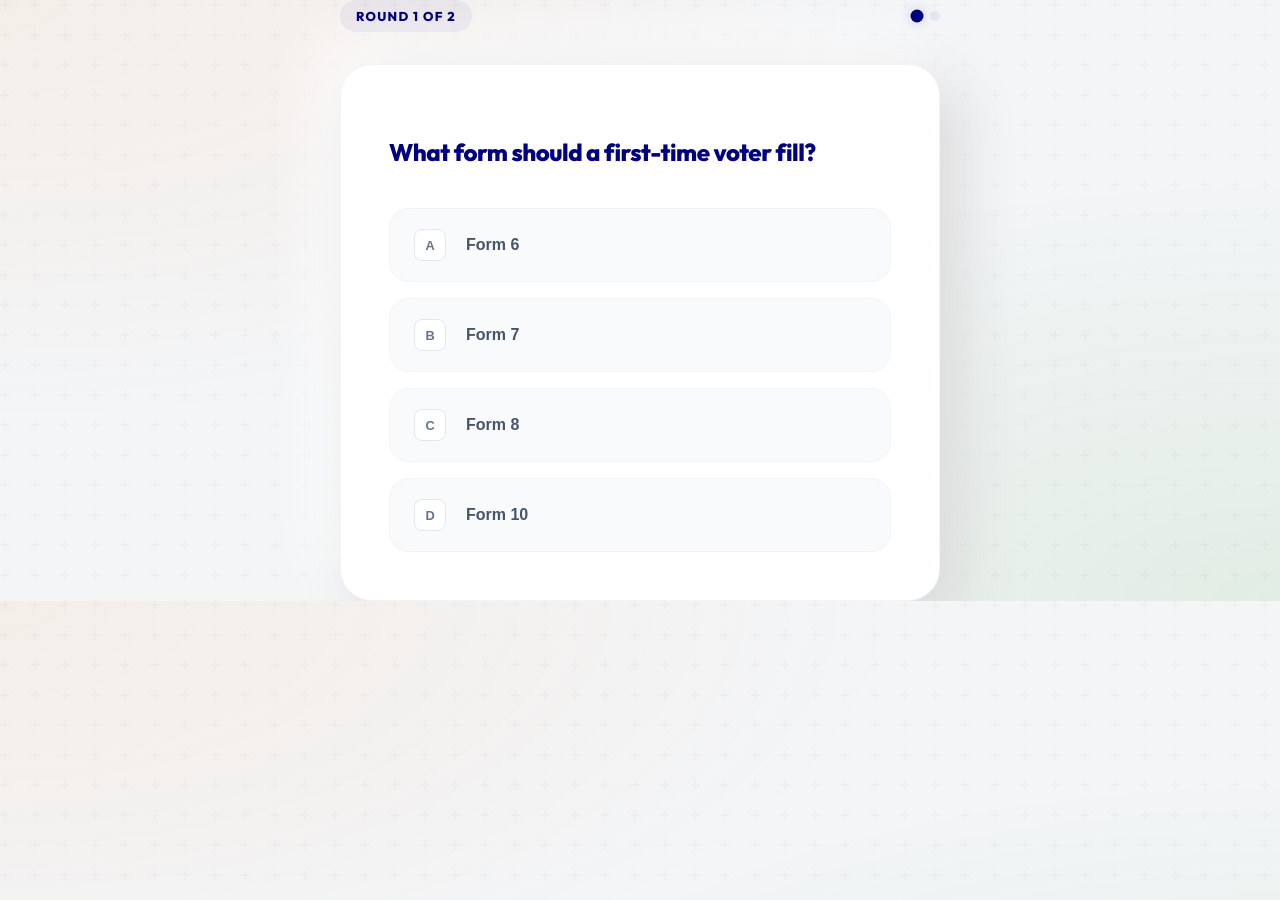
Test case: ElectionQuiz Component › should show "Not Quite!" when clicking wrong answer
This screenshot has width=1280, height=900.
Click the text "Form 7" at (493, 335), box [466, 326, 519, 344]
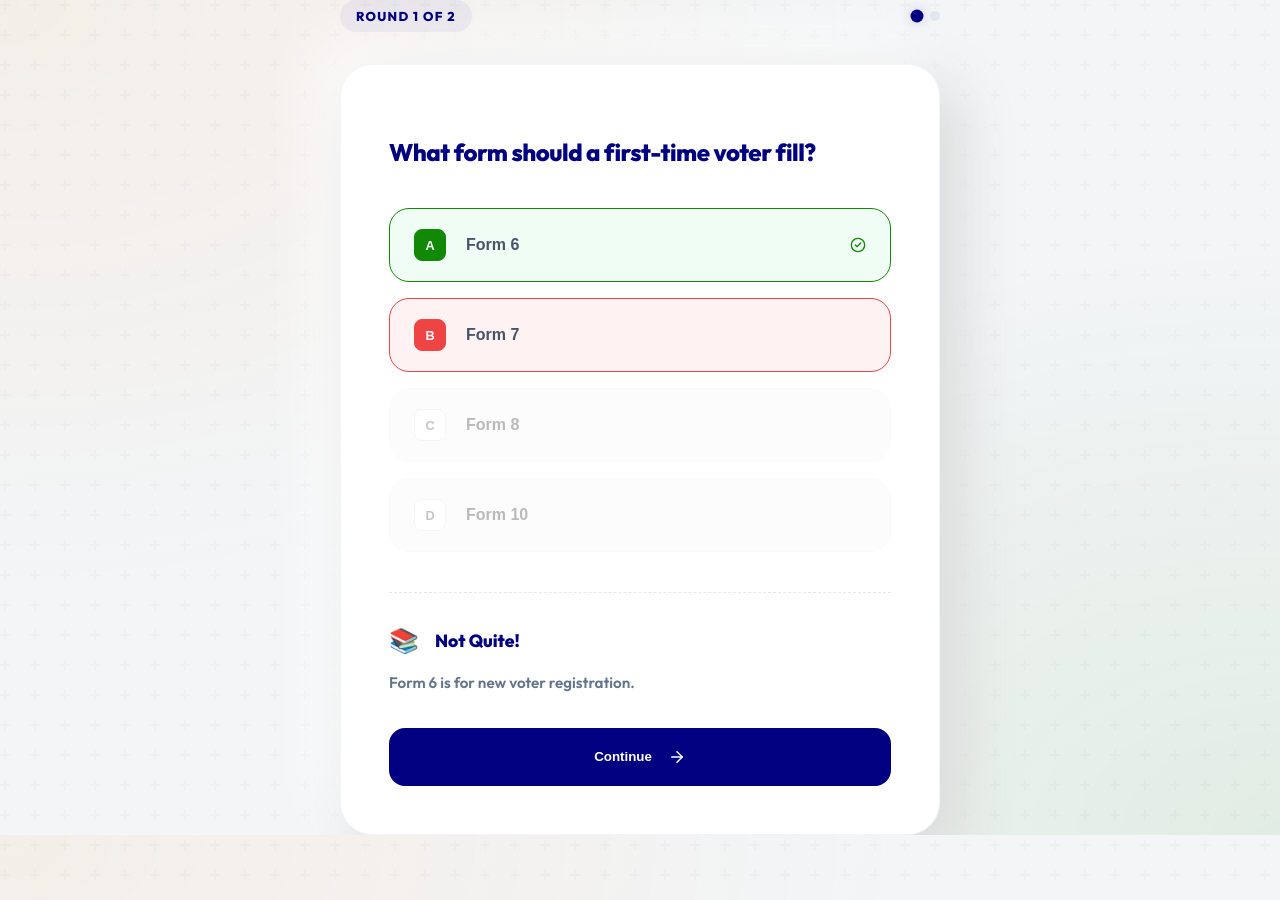
Result: the text "Not Quite!" is shown at [435, 629, 520, 652]
